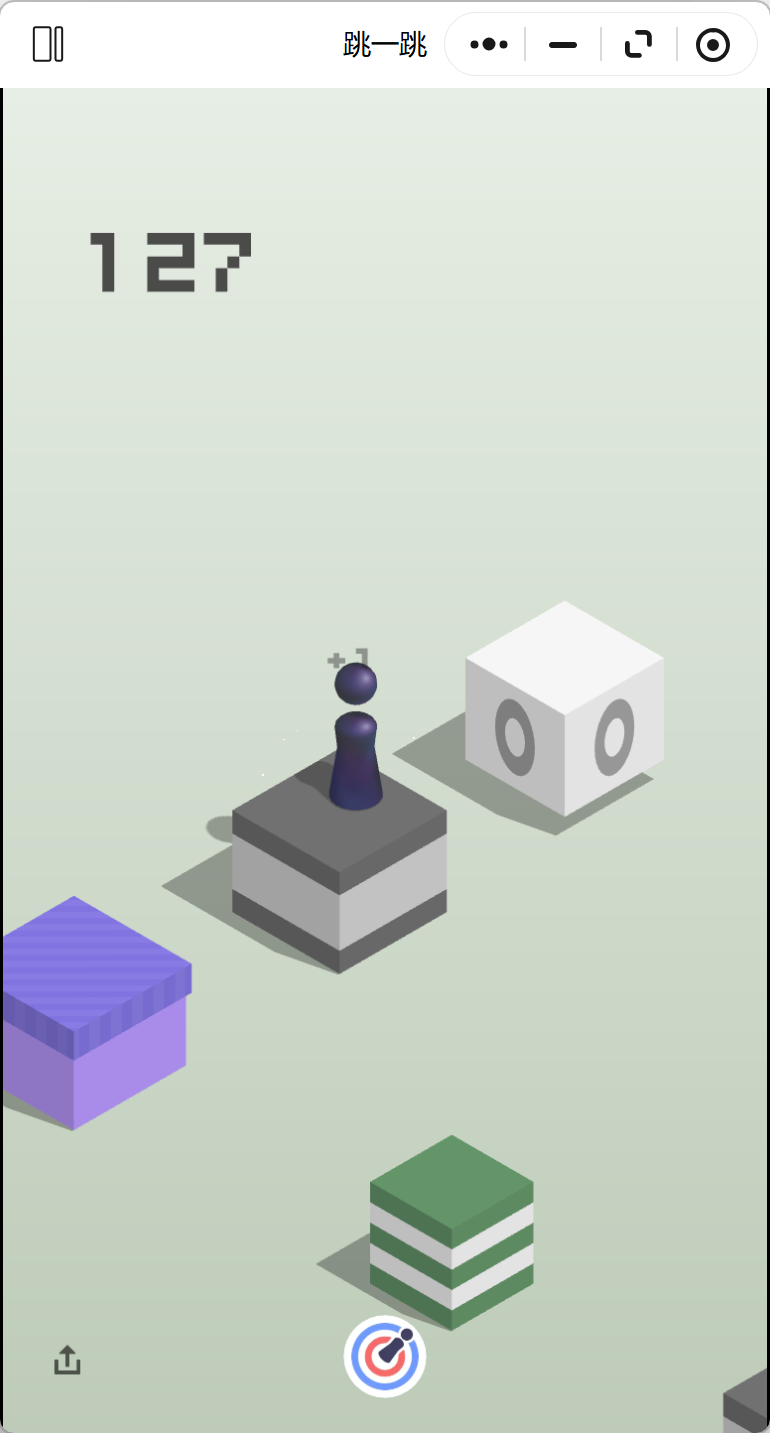piece: (332, 664, 386, 815)
platform: (465, 598, 662, 821)
